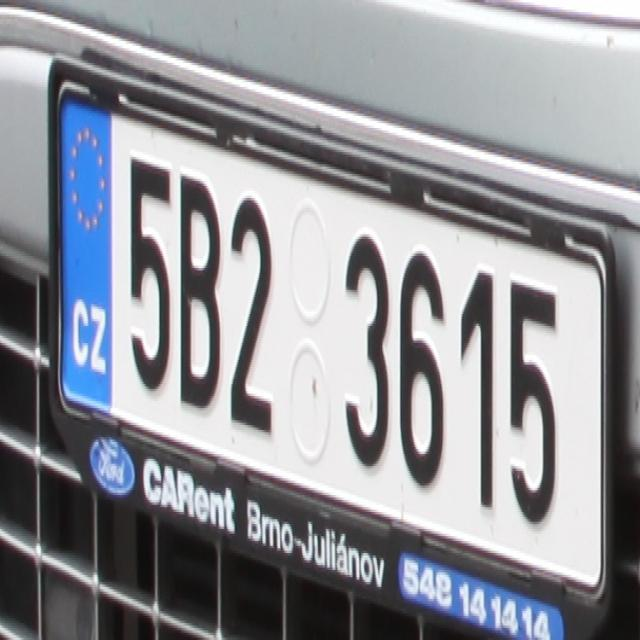1: (461, 260, 494, 510)
2: (228, 191, 270, 430)
3: (342, 230, 389, 468)
5: (507, 278, 560, 529), (126, 152, 173, 389)
6: (397, 242, 445, 496)
B: (173, 168, 226, 416)
